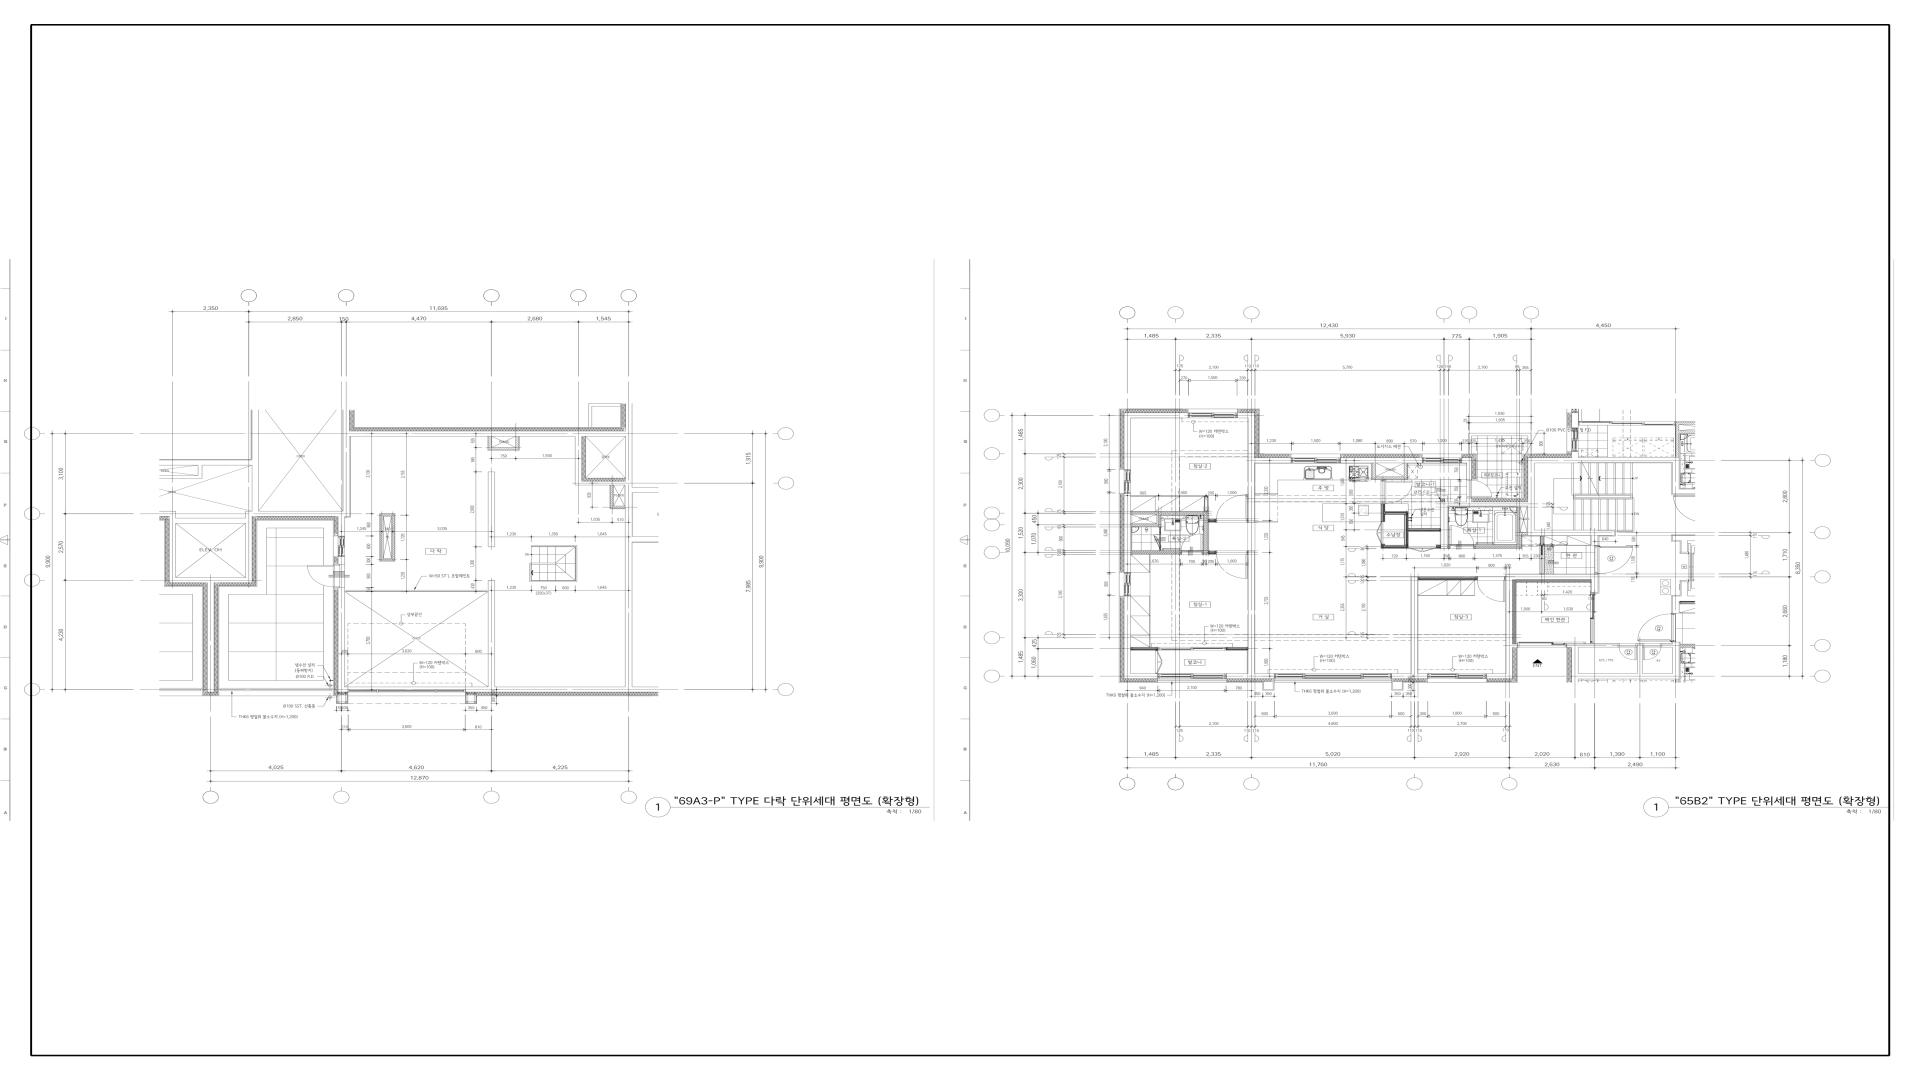door: (1638, 613, 1676, 642), (1594, 546, 1633, 575), (307, 564, 344, 588), (1381, 480, 1412, 504), (1477, 576, 1506, 601), (1218, 497, 1247, 522), (1218, 551, 1247, 576), (1448, 526, 1476, 549), (1180, 534, 1204, 554), (1466, 480, 1491, 498), (1518, 642, 1585, 647), (1618, 644, 1638, 661), (1643, 644, 1662, 661), (1590, 592, 1596, 644), (1539, 535, 1544, 575), (1155, 650, 1162, 674), (1377, 521, 1383, 545), (1408, 547, 1436, 553), (1154, 534, 1160, 549)
wall: (575, 404, 632, 485), (1124, 413, 1188, 469), (1124, 596, 1158, 679), (625, 485, 658, 537), (1535, 451, 1672, 463), (349, 431, 625, 436), (1468, 433, 1531, 454), (625, 537, 633, 692), (1247, 551, 1255, 674), (219, 688, 334, 696), (207, 583, 215, 692), (1672, 458, 1696, 493), (465, 687, 625, 692), (1247, 418, 1255, 522), (160, 460, 202, 479), (1672, 582, 1696, 613), (343, 410, 349, 517), (488, 580, 495, 687), (252, 410, 258, 512), (338, 588, 344, 687), (1411, 576, 1418, 674), (1506, 580, 1513, 674), (1578, 674, 1679, 679), (1124, 493, 1130, 572), (488, 471, 495, 547), (1466, 498, 1528, 506), (252, 512, 344, 517), (1528, 458, 1535, 530), (245, 512, 252, 583), (1528, 530, 1614, 535), (1506, 575, 1592, 580), (1340, 458, 1423, 463), (169, 512, 175, 578), (1518, 506, 1528, 546), (1672, 535, 1696, 553), (169, 578, 245, 583), (175, 518, 245, 524), (611, 485, 625, 509), (575, 436, 582, 481), (1441, 506, 1448, 549), (202, 460, 252, 465), (1572, 647, 1578, 683), (1226, 674, 1270, 679), (1387, 674, 1428, 679), (1672, 642, 1679, 674), (1462, 458, 1472, 480), (1130, 512, 1208, 514), (1567, 644, 1618, 647), (336, 687, 348, 704), (1255, 458, 1291, 463), (380, 517, 384, 559), (1638, 644, 1643, 674), (1418, 576, 1477, 579), (1204, 514, 1208, 554), (1486, 674, 1513, 679), (1130, 551, 1180, 554), (633, 537, 658, 542), (338, 517, 344, 537), (1476, 546, 1522, 549), (1592, 575, 1598, 592), (392, 517, 394, 559), (1441, 502, 1466, 506), (1237, 413, 1255, 418), (1572, 413, 1578, 427), (588, 404, 592, 427), (575, 547, 578, 582), (592, 404, 621, 406), (1592, 535, 1598, 546), (1130, 524, 1156, 526), (492, 447, 518, 450), (530, 580, 576, 582), (531, 546, 578, 547), (338, 556, 344, 564), (1156, 514, 1160, 526), (1381, 504, 1383, 521), (1407, 529, 1441, 530), (1404, 514, 1406, 546), (1662, 644, 1672, 647), (1373, 463, 1375, 479), (1375, 477, 1407, 479), (1404, 463, 1407, 477), (380, 514, 394, 517), (1130, 647, 1158, 649), (489, 436, 492, 450), (1226, 647, 1247, 649), (1385, 513, 1406, 514), (1383, 545, 1404, 546), (1208, 518, 1218, 521), (516, 436, 518, 447), (530, 563, 531, 580), (1513, 644, 1518, 647), (380, 559, 394, 560), (1208, 551, 1218, 553), (1381, 479, 1386, 481), (1436, 545, 1441, 547), (1159, 526, 1160, 534), (1159, 549, 1160, 551), (1448, 546, 1448, 549), (345, 591, 487, 591)
window: (348, 687, 465, 696), (1269, 674, 1387, 679), (1158, 674, 1226, 679), (1427, 674, 1486, 679), (1291, 458, 1341, 463), (1188, 413, 1237, 418), (1423, 458, 1462, 463), (1158, 647, 1226, 650), (1124, 572, 1130, 596), (1124, 469, 1130, 493), (1572, 427, 1578, 451), (338, 537, 344, 556)
